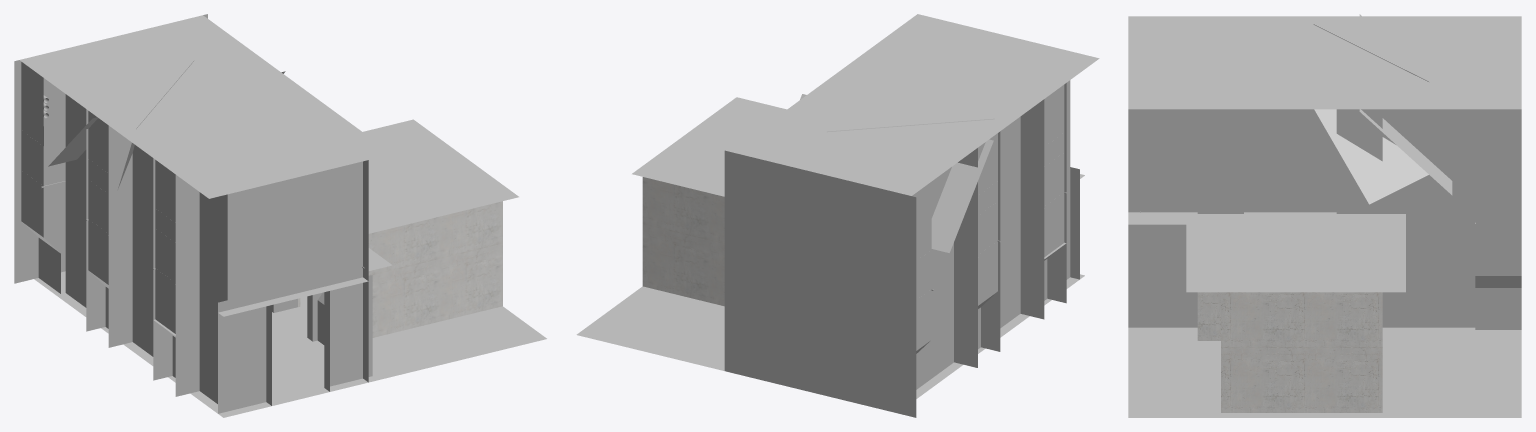
The model's file is Room1_CaveIn_LCZ.fbx.
3 renders of one model, left to right at view 1: azimuth 30°, elevation 25°; view 2: azimuth 150°, elevation 25°; view 3: azimuth 270°, elevation 25°, orthographic. The views are drawn at different scales.
Parts seen in each view (by area): view 1: Room1_CaveIn_LCZ; view 2: Room1_CaveIn_LCZ; view 3: Room1_CaveIn_LCZ.
Boxes of the visible parts, left/top/right/bottom form: Room1_CaveIn_LCZ: left=14, top=14, right=546, bottom=417; Room1_CaveIn_LCZ: left=576, top=14, right=1099, bottom=417; Room1_CaveIn_LCZ: left=1128, top=14, right=1521, bottom=417.
Size of the model in its own units: 1136 by 706 by 1088.
